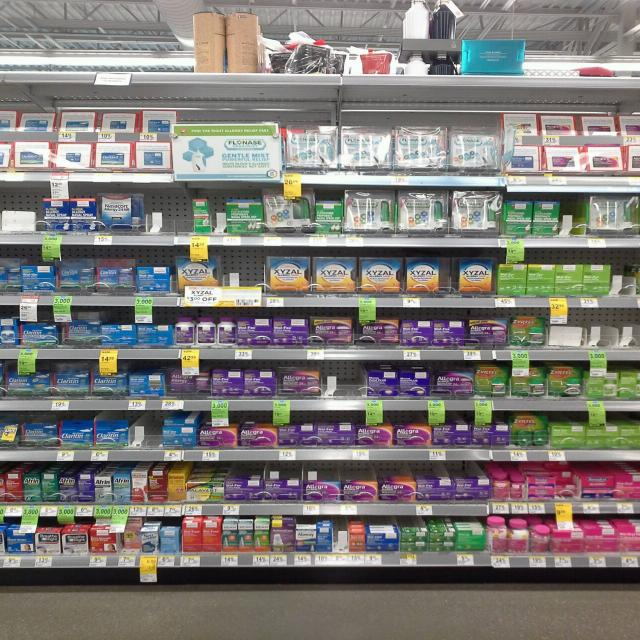void: (150, 190, 189, 248), (223, 251, 261, 308), (603, 309, 637, 367), (1, 189, 36, 245), (325, 366, 361, 410), (573, 314, 600, 365), (133, 411, 159, 462), (549, 312, 572, 366)
